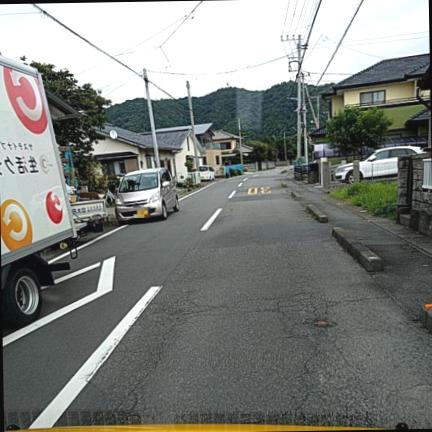Road: (3, 170, 431, 427)
